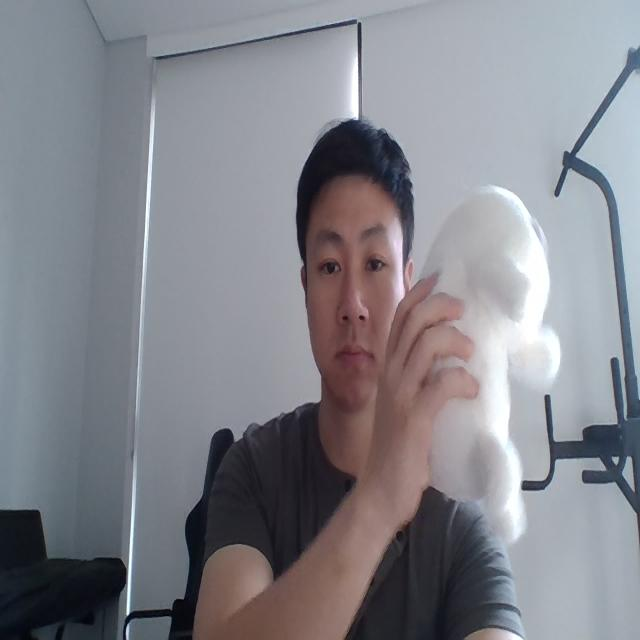seal_bb: (410, 187, 561, 540)
